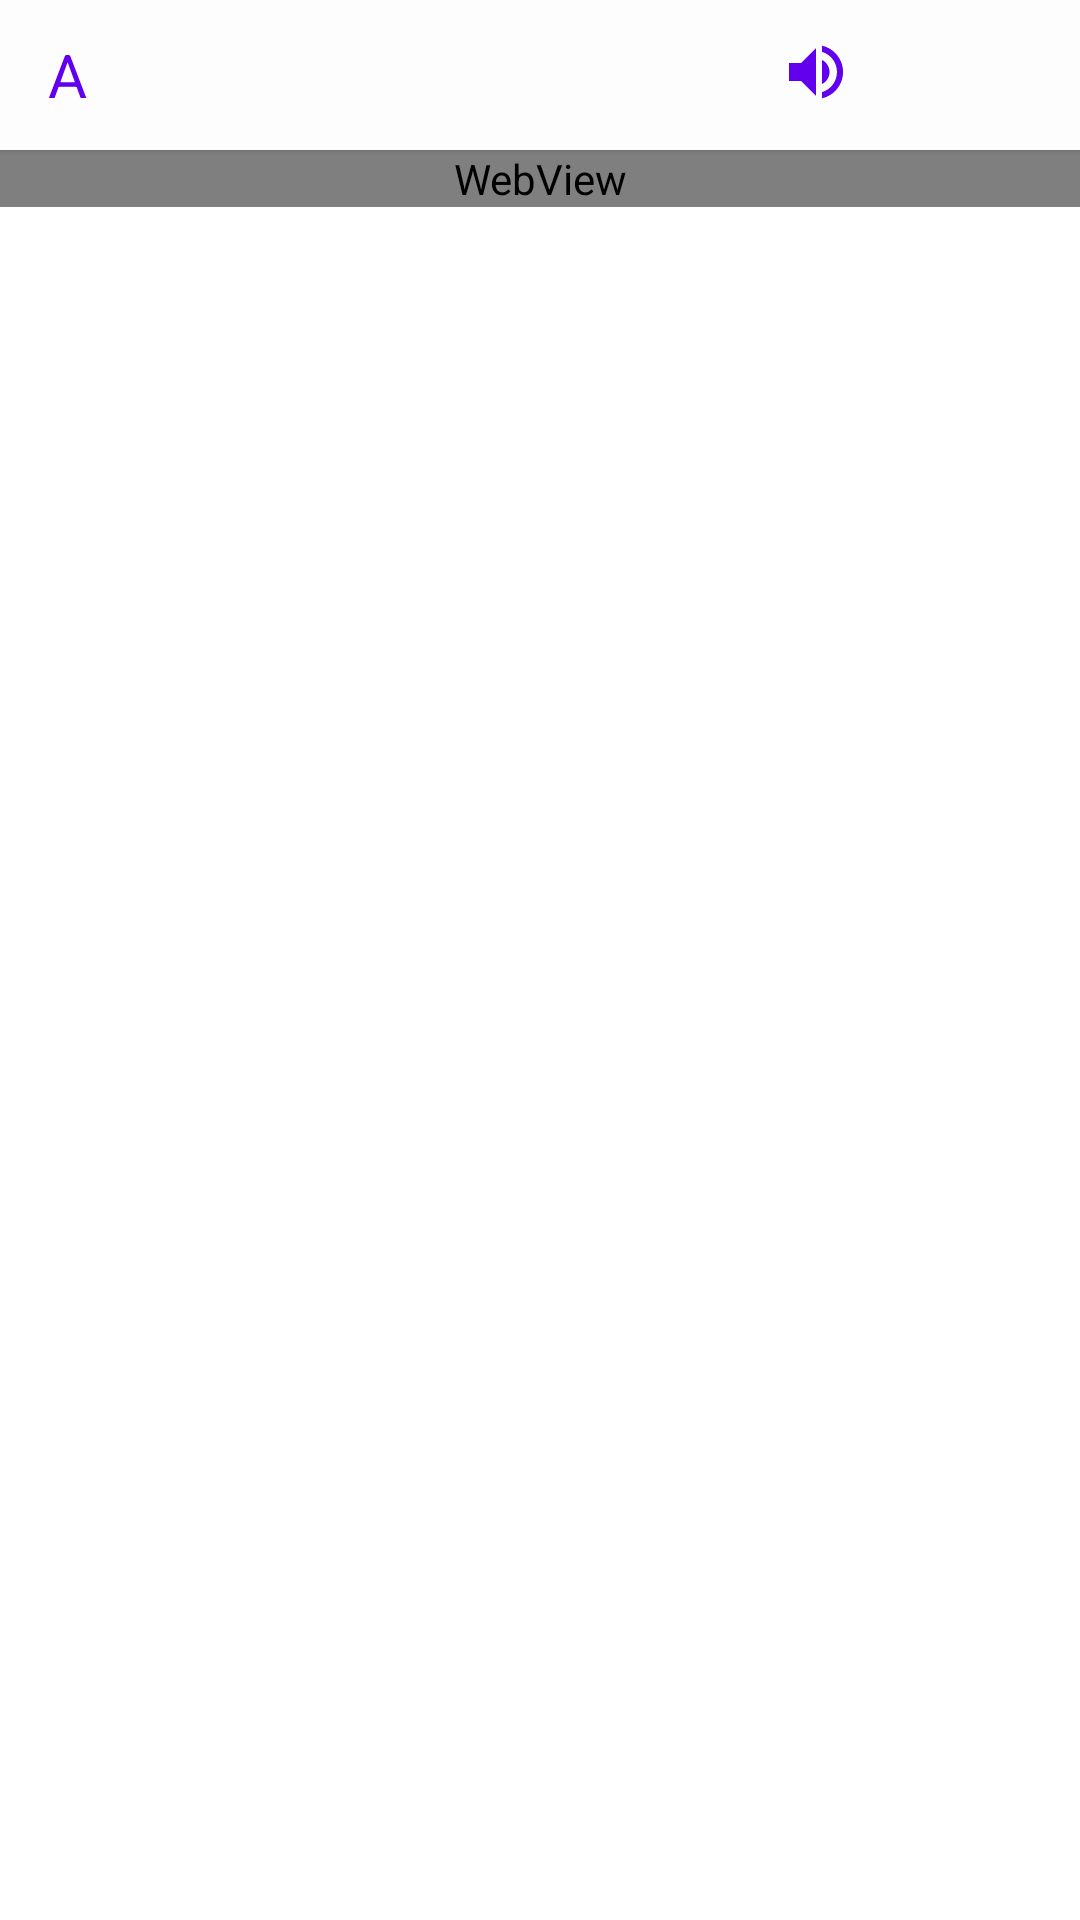

Where icons sit on this 1080*1920 app screen, as (x1, y1, x2, y2):
volume: (789, 45, 843, 99)
